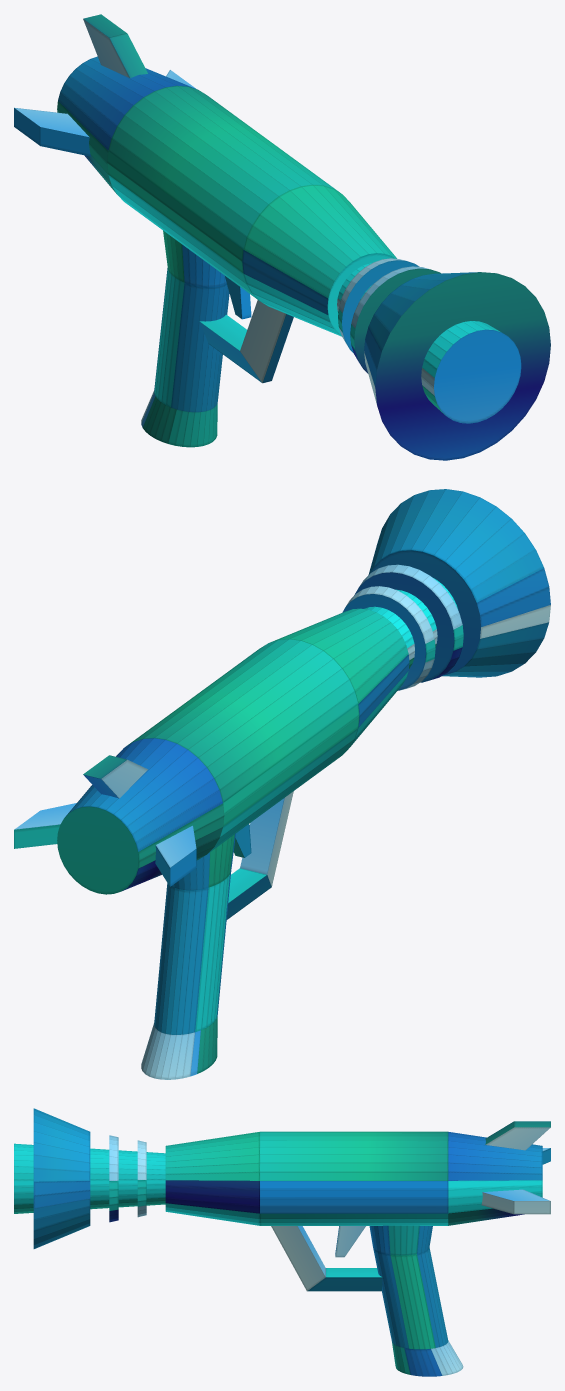
The model's file is tool_test.obj.
3 views of the same model, one above another, from view 1: azimuth 30°, elevation 25°; view 2: azimuth 150°, elevation 25°; view 3: azimuth 270°, elevation 25° (orthographic). The views are drawn at different scales.
Visible parts, largest first — view 1: Cube.005; view 2: Cube.005; view 3: Cube.005.
Part boxes in pixels (box(x1,y1,x2,y2)): Cube.005: box(14, 14, 550, 460); Cube.005: box(14, 489, 550, 1079); Cube.005: box(14, 1108, 550, 1376).
Size of the model in its own units: 0.075 by 0.1475 by 0.2849.
